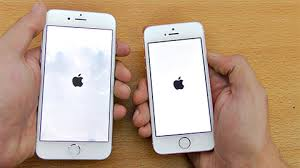iphone: (33, 3, 118, 163), (142, 19, 216, 156)
iphone6: (31, 1, 116, 161)
